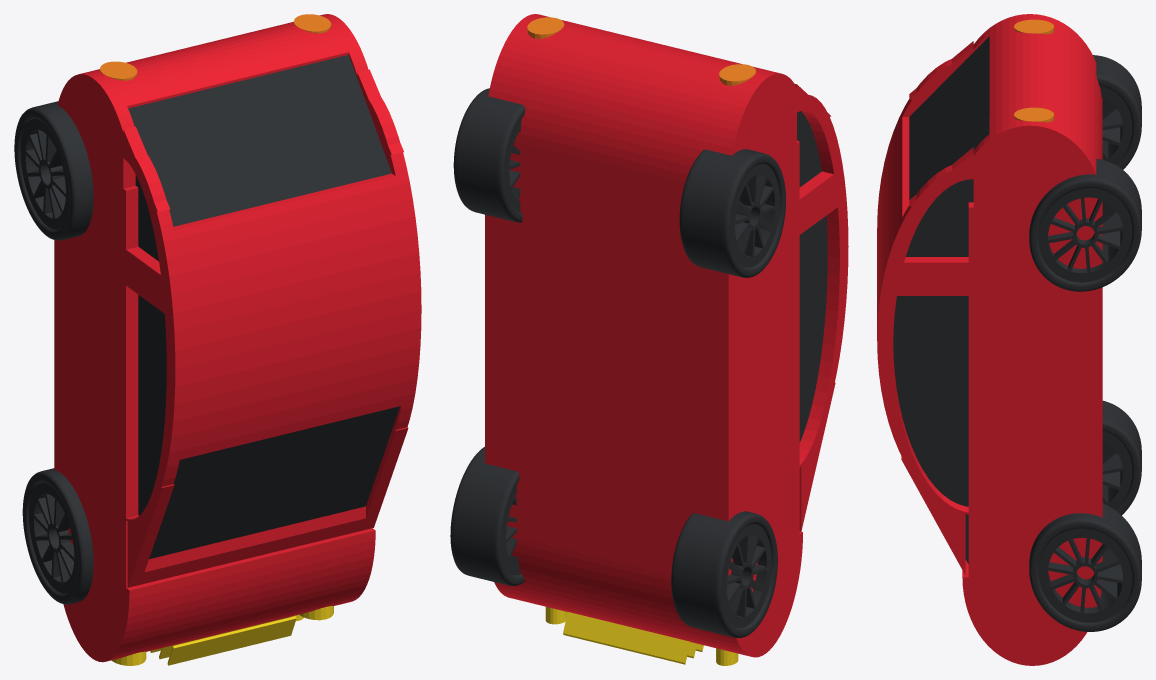
The model's file is tinker.obj.
3 renders of one model, left to right at view 1: azimuth 30°, elevation 25°; view 2: azimuth 150°, elevation 25°; view 3: azimuth 270°, elevation 25°, orthographic. The views are drawn at different scales.
Visible parts, largest first — view 1: group_0_15277357, group_0_2829873, group_0_16768282, group_0_16089887; view 2: group_0_15277357, group_0_2829873, group_0_16768282, group_0_16089887; view 3: group_0_15277357, group_0_2829873, group_0_16089887.
Part boxes in pixels (x1=…): group_0_15277357: x1=54, y1=14, x2=421, y2=662; group_0_2829873: x1=14, y1=55, x2=399, y2=604; group_0_16768282: x1=111, y1=606, x2=333, y2=665; group_0_16089887: x1=100, y1=14, x2=331, y2=80; group_0_15277357: x1=485, y1=14, x2=848, y2=657; group_0_2829873: x1=450, y1=88, x2=827, y2=637; group_0_16768282: x1=545, y1=607, x2=738, y2=665; group_0_16089887: x1=527, y1=17, x2=756, y2=85; group_0_15277357: x1=877, y1=14, x2=1102, y2=665; group_0_2829873: x1=893, y1=36, x2=1141, y2=631; group_0_16089887: x1=1014, y1=19, x2=1054, y2=122.
Size of the model in its own units: 42.25 by 85 by 37.
